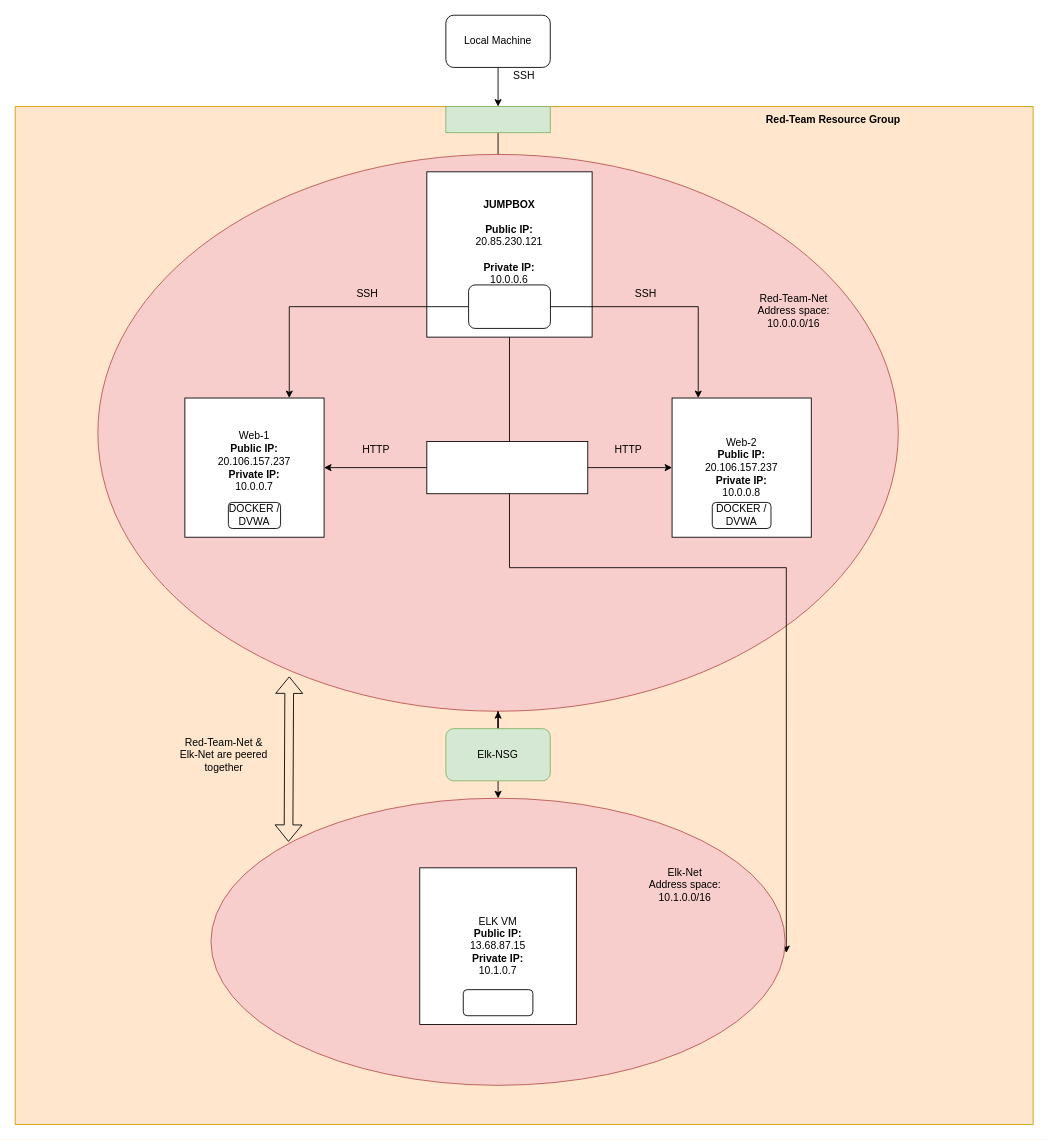
This 1048x1140 diagram has some shape labels left out. Each missing label, with the centre of its shape:
DOCKER / ANSIBLE: (x=509, y=306)
DOCKER / ELK: (x=497, y=1002)
LOAD BALANCER Public IP: 20.106.157.237: (x=507, y=467)
Red-Team-NSG: (x=497, y=119)
